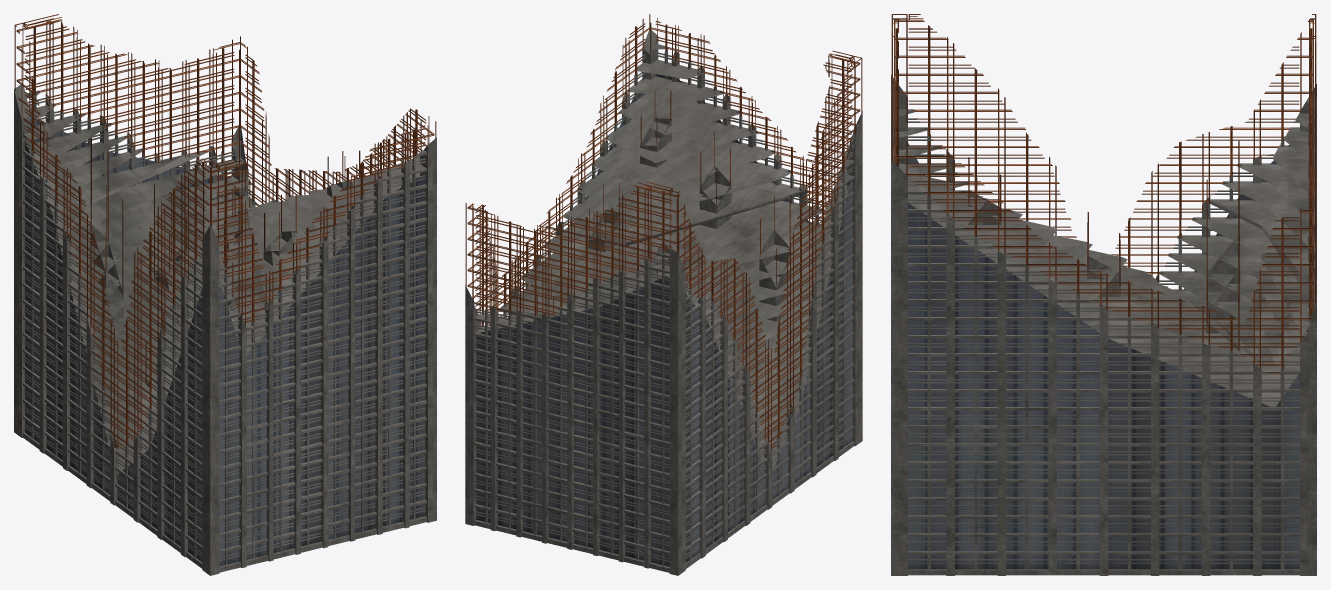
Rendered from building-02.glb.
3 views of the same model, side by side, from view 1: azimuth 30°, elevation 25°; view 2: azimuth 150°, elevation 25°; view 3: azimuth 270°, elevation 25° (orthographic). The views are drawn at different scales.
Parts seen in each view (by area): view 1: Building 02; view 2: Building 02; view 3: Building 02.
Boxes of the visible parts, <box> form: Building 02: <box>14,14,436,575</box>; Building 02: <box>465,14,862,575</box>; Building 02: <box>891,14,1316,575</box>.
Size of the model in its own units: 21 by 36.1 by 31.5.
Materials: 3 (3 with a texture image).
